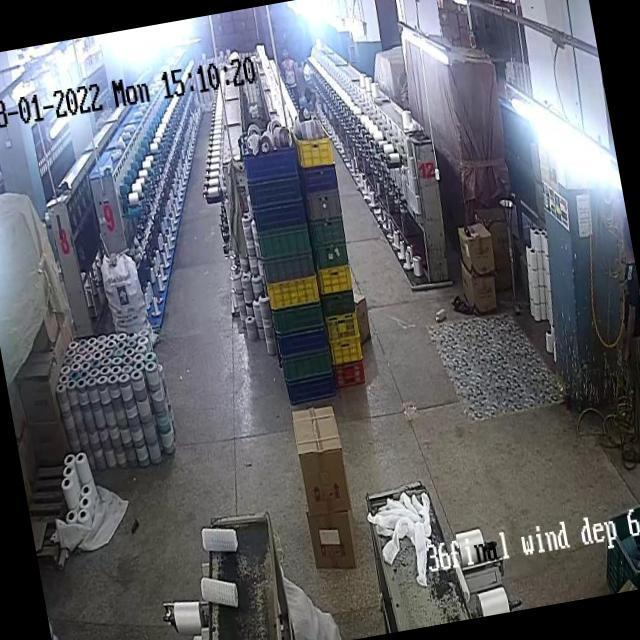person: (276, 42, 305, 114), (308, 87, 324, 124), (302, 88, 314, 114)
